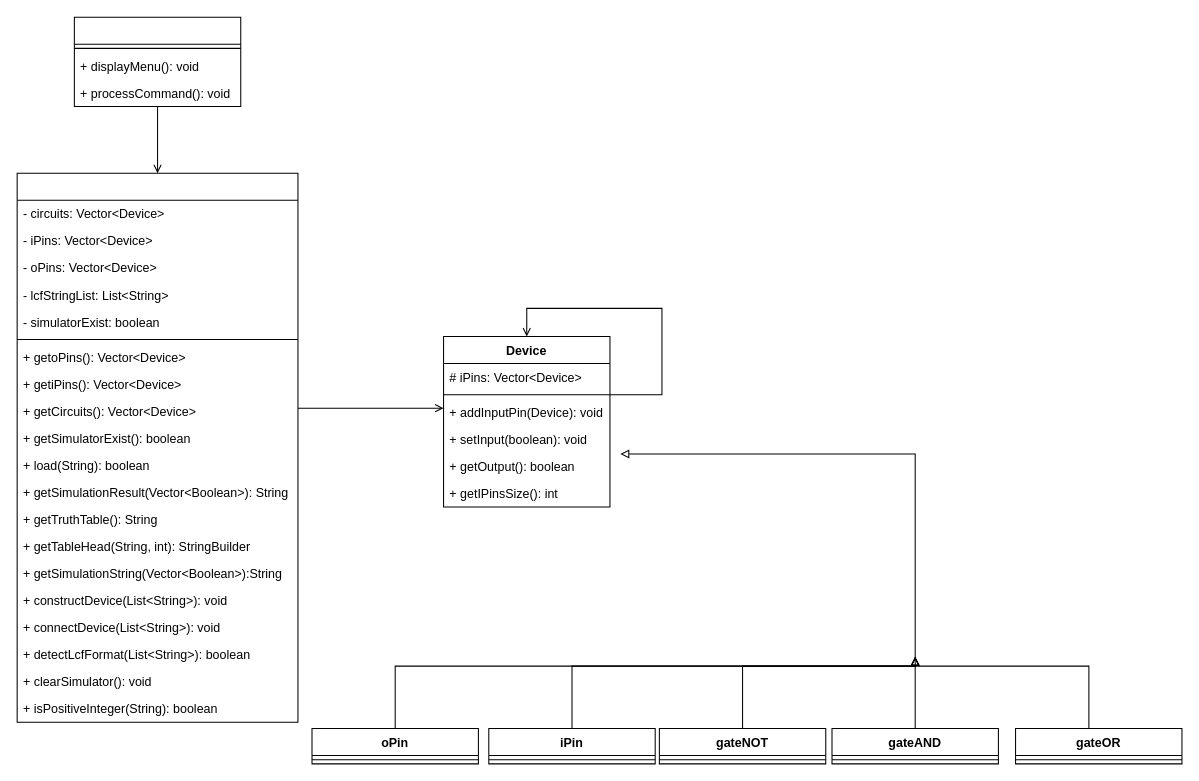
Some shapes in this 1199 by 781 pixel diagram are drawn without their labels. Each missing label, with the box of its shape:
LogicSimulator: (16, 172, 298, 722)
TextUI: (73, 16, 241, 107)
